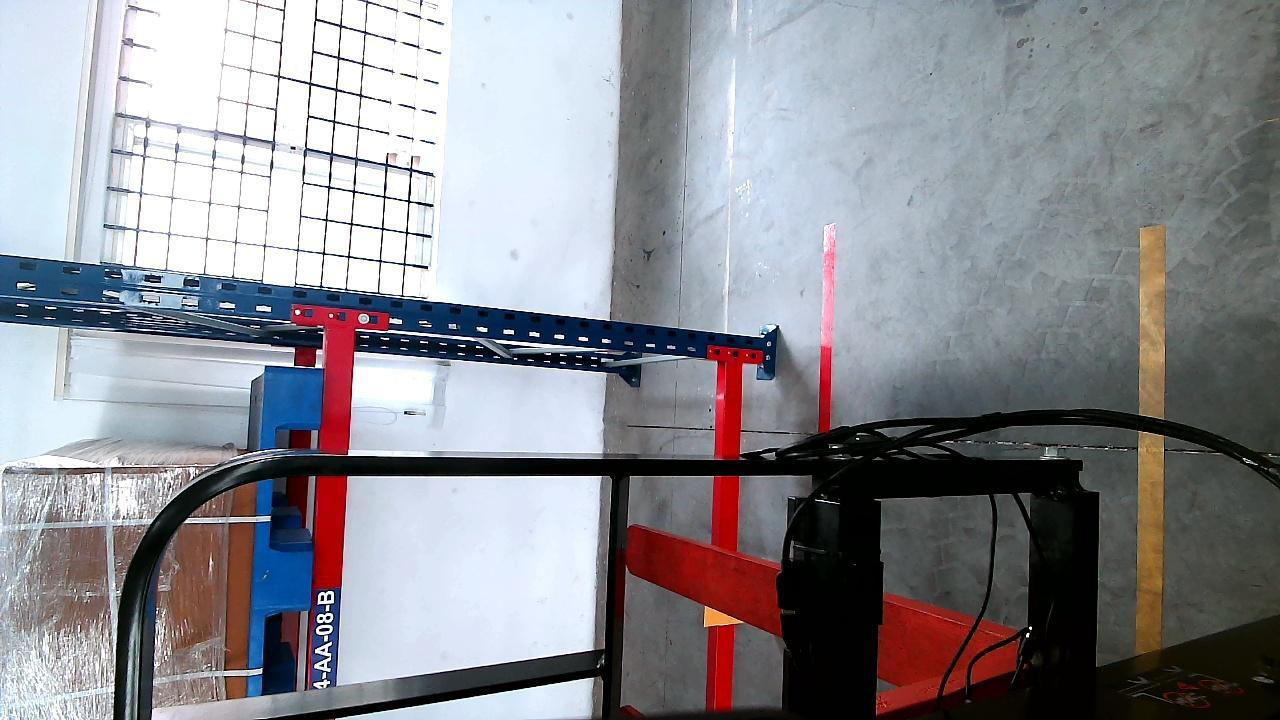red_line: (819, 225, 839, 429)
yellow_line: (1138, 212, 1163, 664)
